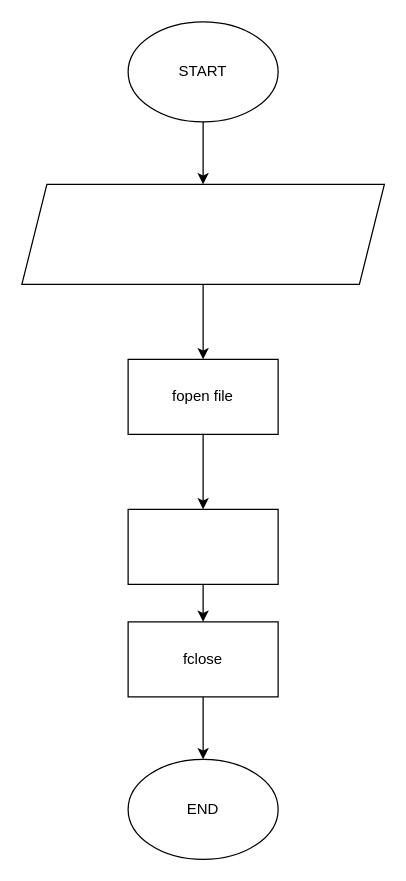
The diagram is 406 pixels wide and 881 high, and some of its shapes have lost their labels. Here are the shapes that lost their labels. From the top down, the centre of each, then its label:
the point at 202,233: filePoiter, buffer = Duc Anh: con ga FC Online
the point at 202,546: fwrite
